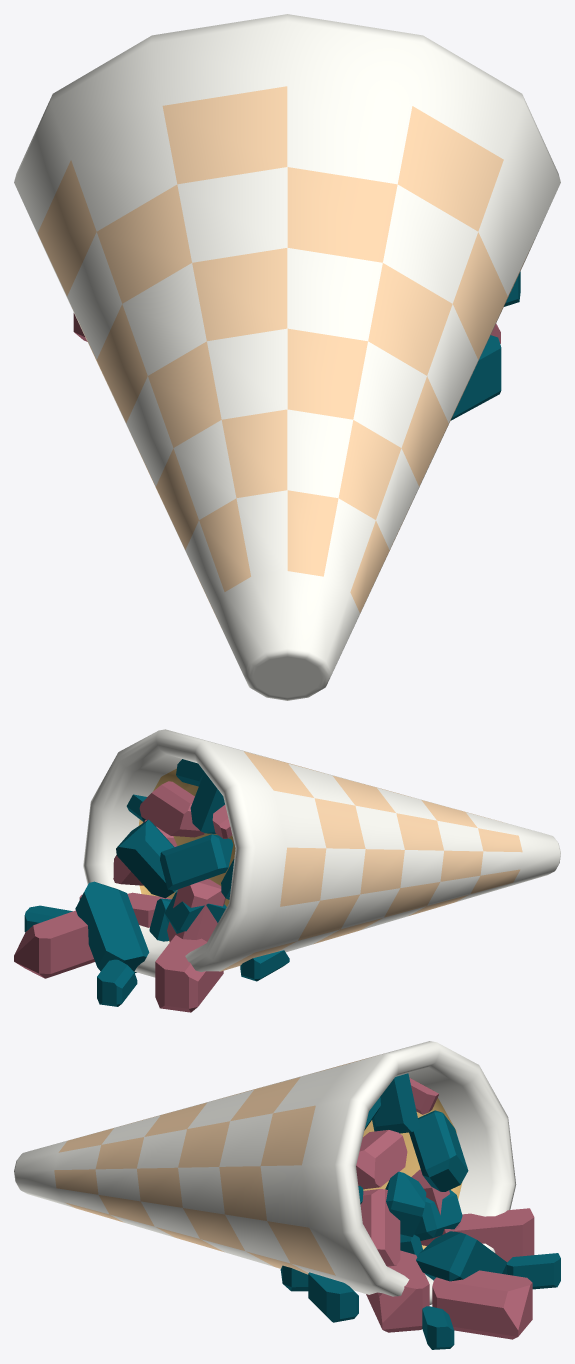
Rendered from RoastedNutsCone.fbx.
3 views of the same model, one above another, from view 1: azimuth 30°, elevation 25°; view 2: azimuth 150°, elevation 25°; view 3: azimuth 270°, elevation 25° (orthographic). The views are drawn at different scales.
Visible parts, largest first — view 1: Cone, Roasted Nuts.002; view 2: Cone, Roasted Nuts.002, Roasted Nuts.003; view 3: Cone, Roasted Nuts.002, Roasted Nuts.003.
Boxes of the visible parts, <box> form: Cone: <box>14,14,560,700</box>; Roasted Nuts.002: <box>73,271,520,420</box>; Cone: <box>83,729,560,977</box>; Roasted Nuts.002: <box>14,881,289,1012</box>; Roasted Nuts.003: <box>113,759,234,942</box>; Cone: <box>14,1041,516,1304</box>; Roasted Nuts.002: <box>280,1190,560,1349</box>; Roasted Nuts.003: <box>356,1073,468,1266</box>.
Size of the model in its own units: 35.71 by 21.44 by 47.16.
